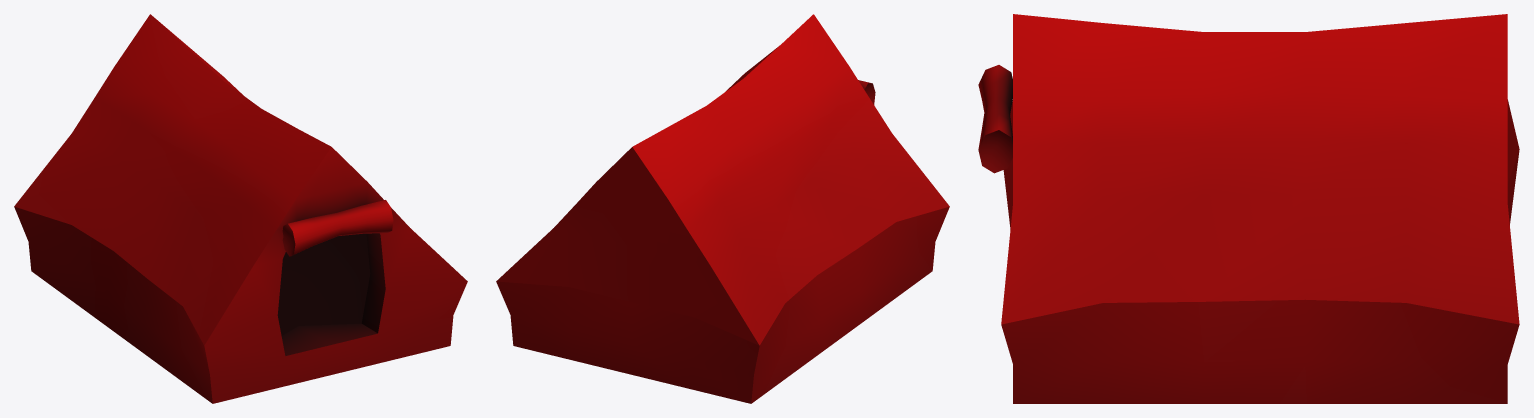
Rendered from buildings-tents-wintertent_v1.fbx.
The picture shows the model from 3 angles, left to right: view 1: azimuth 30°, elevation 25°; view 2: azimuth 150°, elevation 25°; view 3: azimuth 270°, elevation 25°; orthographic projection. The views are drawn at different scales.
Visible parts, largest first — view 1: WinterTent.001; view 2: WinterTent.001; view 3: WinterTent.001.
Part boxes in pixels (x1,y1,x2,y2): WinterTent.001: (14, 14, 467, 403); WinterTent.001: (496, 14, 949, 403); WinterTent.001: (978, 14, 1519, 403).
Size of the model in its own units: 4.22 by 3.49 by 5.51.
